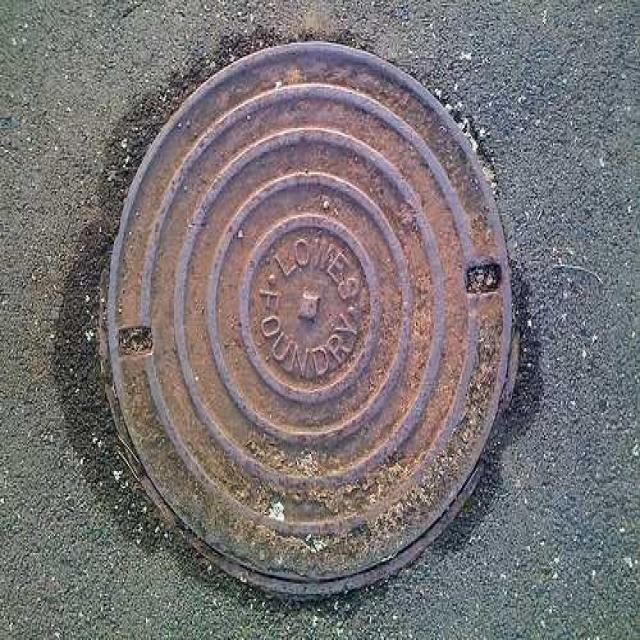manhole: (104, 43, 516, 596)
